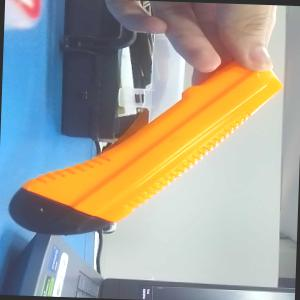estilete: (7, 51, 284, 243)
